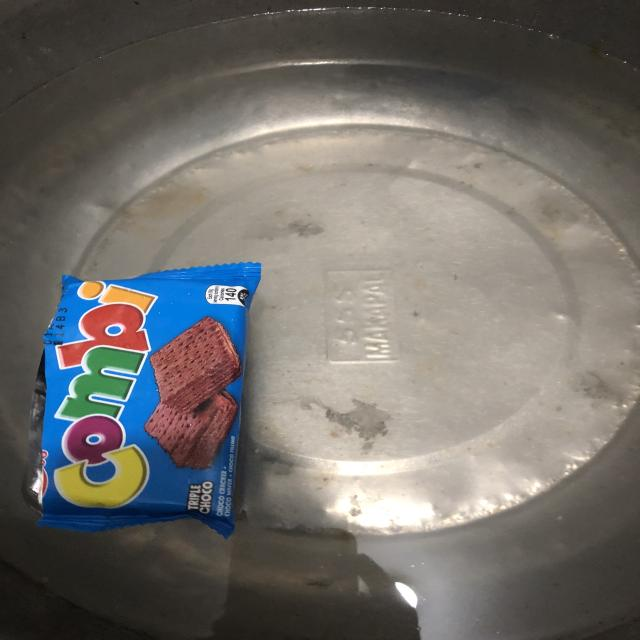Plastic Wrapper: (31, 263, 260, 537)
